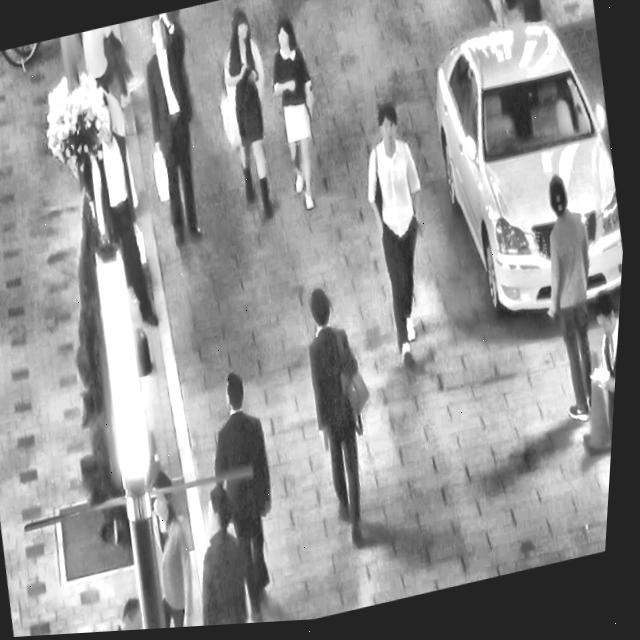light_vehicle: (406, 0, 639, 350)
